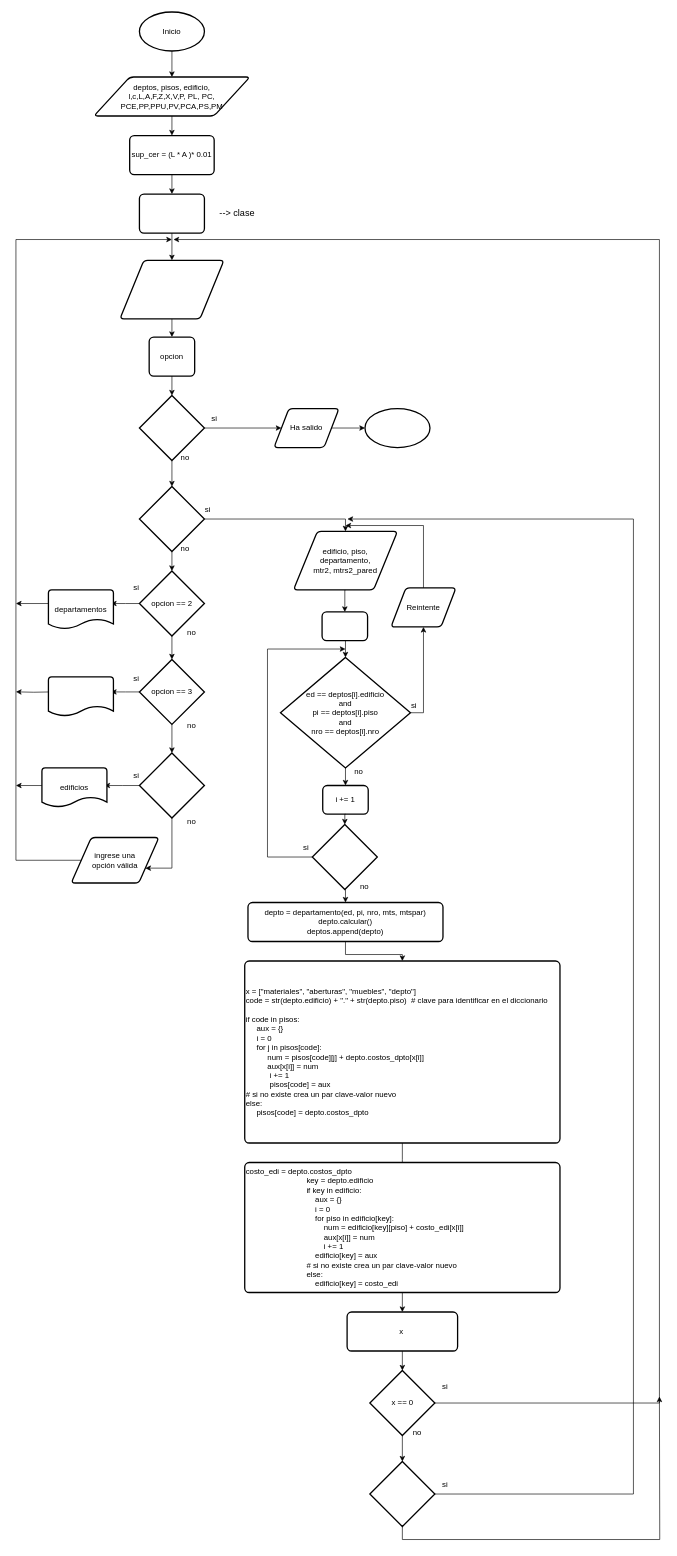
This 677x1556 diagram has some shape labels left out. Each missing label, with the box of its shape:
departamento: (138, 193, 205, 233)
Final: (364, 408, 430, 448)
i != len(pisos): (311, 824, 378, 890)
i = 0: (321, 611, 368, 641)
MENU GESTOR DE COSTOS: (119, 259, 224, 319)
opcion == 0: (138, 395, 205, 461)
opcion == 1: (138, 486, 205, 552)
opcion == 4: (138, 752, 205, 818)
pisos: (47, 676, 114, 716)
x == 1: (369, 1461, 435, 1527)
